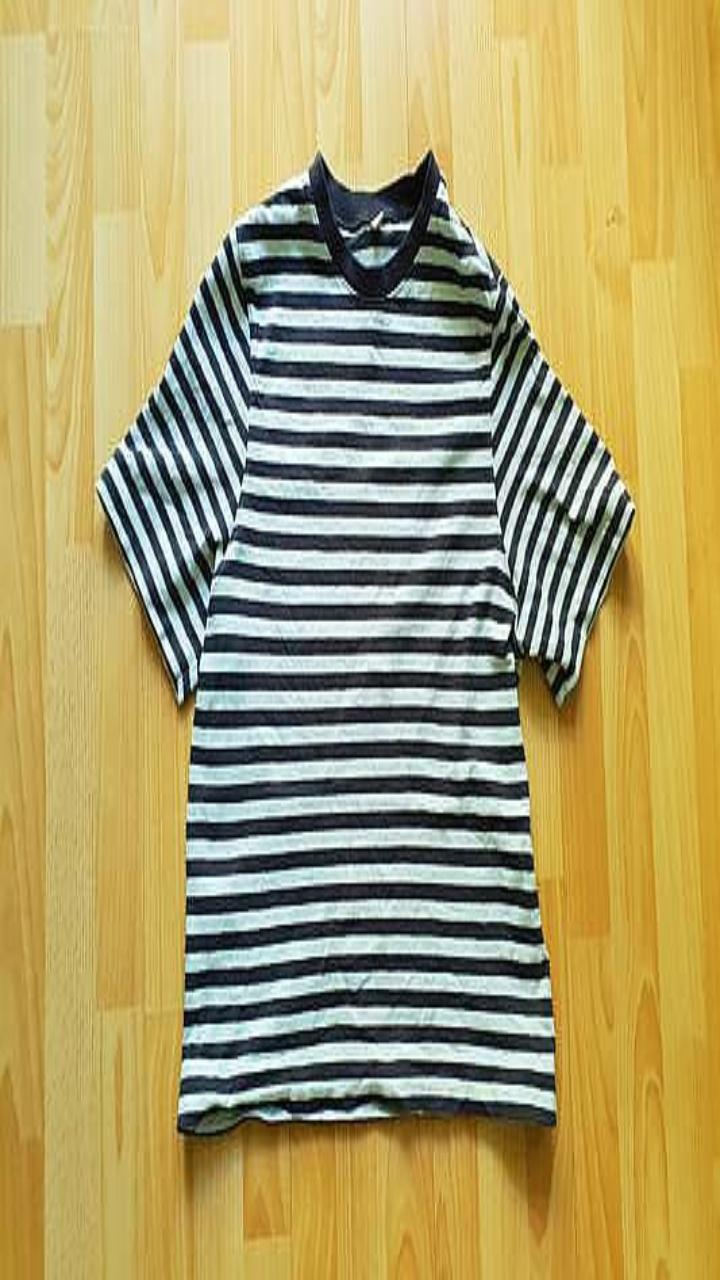T-Shirt: (96, 150, 634, 1133)
